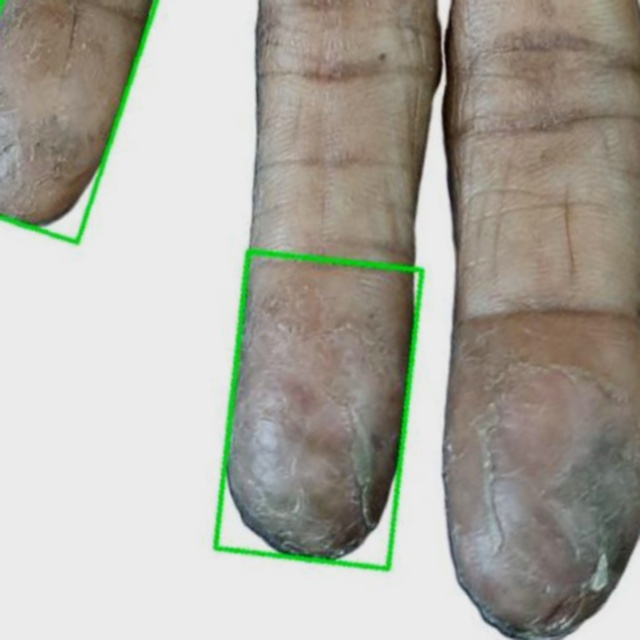Contact Dermatitis: (0, 0, 639, 639), (214, 252, 421, 568), (0, 0, 157, 243)
